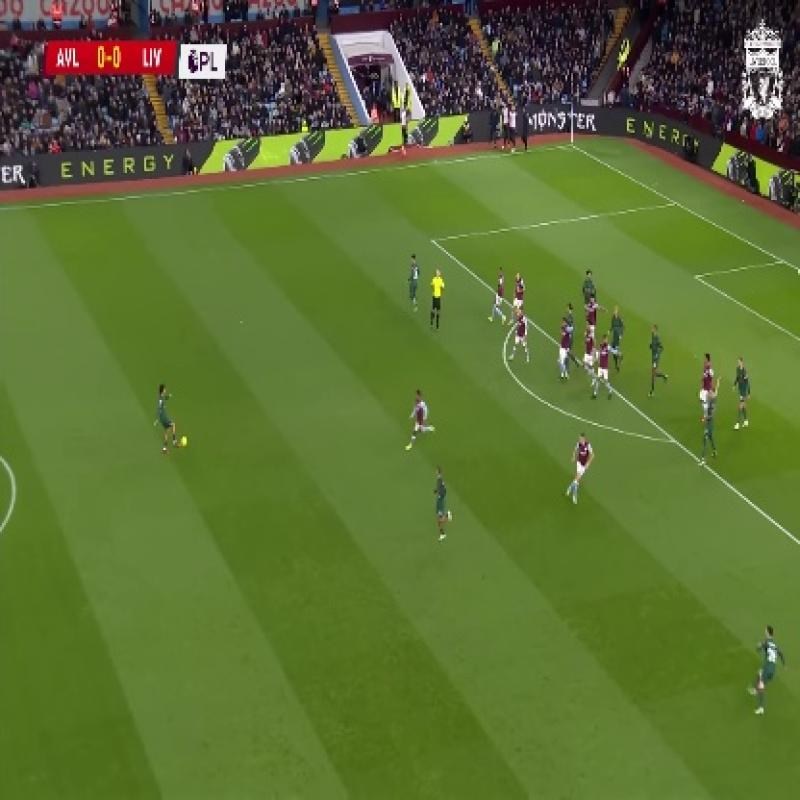1: (560, 136, 581, 152)
11: (664, 425, 682, 452)
2: (665, 192, 683, 212)
3: (773, 248, 792, 271)
7: (684, 264, 706, 288)
9: (422, 225, 440, 252)
c: (3, 466, 27, 494)
